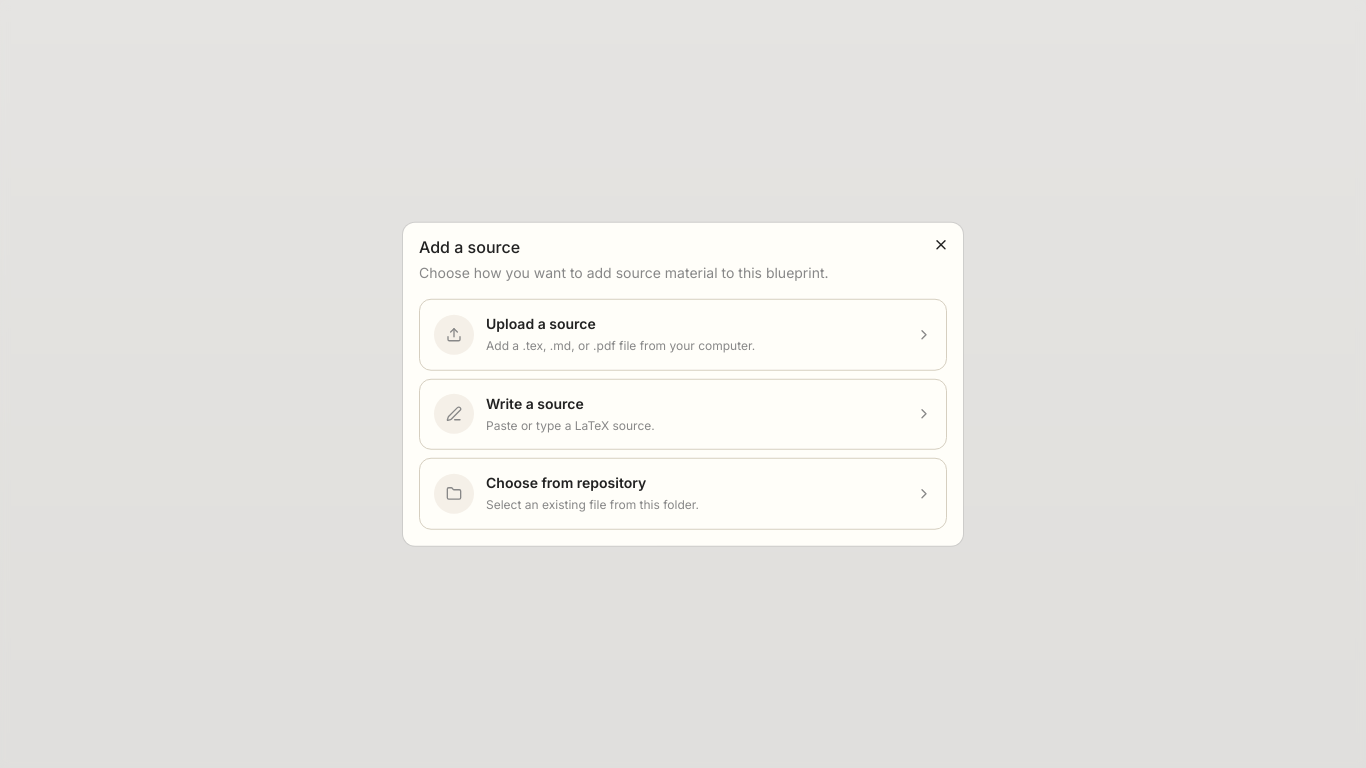
it: AddSourceDialog › searches by full path and hides files that are already attached
The image size is (1366, 768).
Step 1. Click the button "Choose from repository" → (454, 494), box [419,458,947,529]
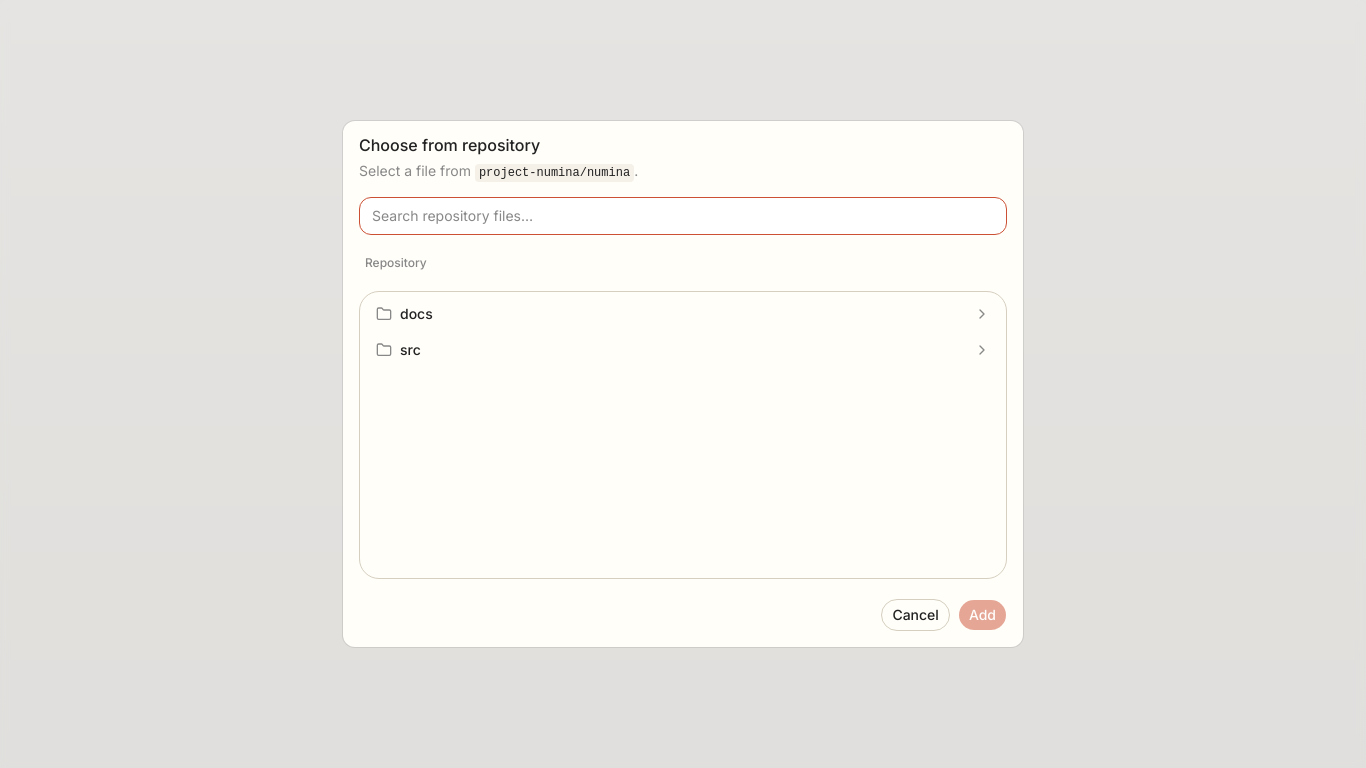
expect the button "src" is shown: met, box [364,332,1002,368]
Step 2. Type "nested/proof" into the search field labelled "Search repository files" → (683, 216), box [359,197,1007,235]
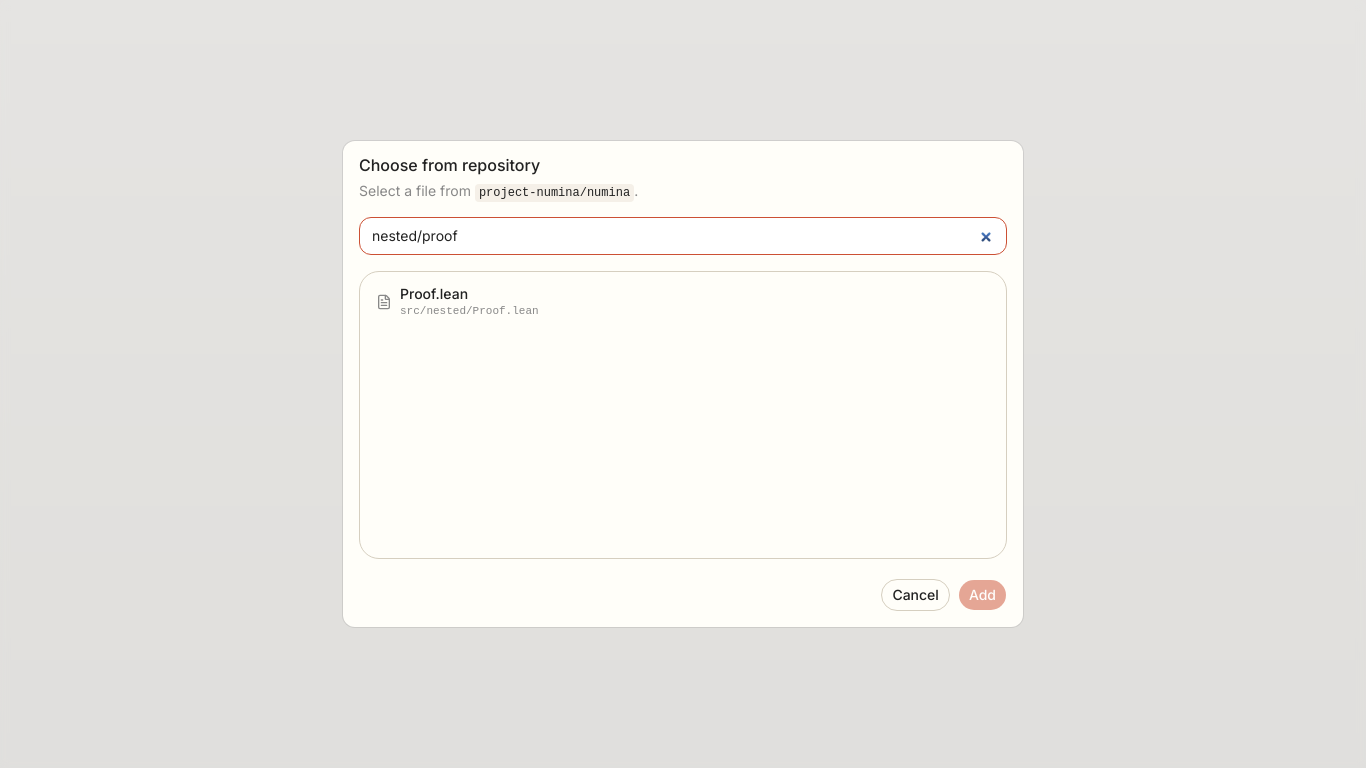
expect the button "Proof.lean src/nested/Proof.lean" is shown: met, box [364,276,1002,328]
